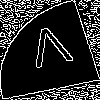V: (24, 24, 78, 78)
